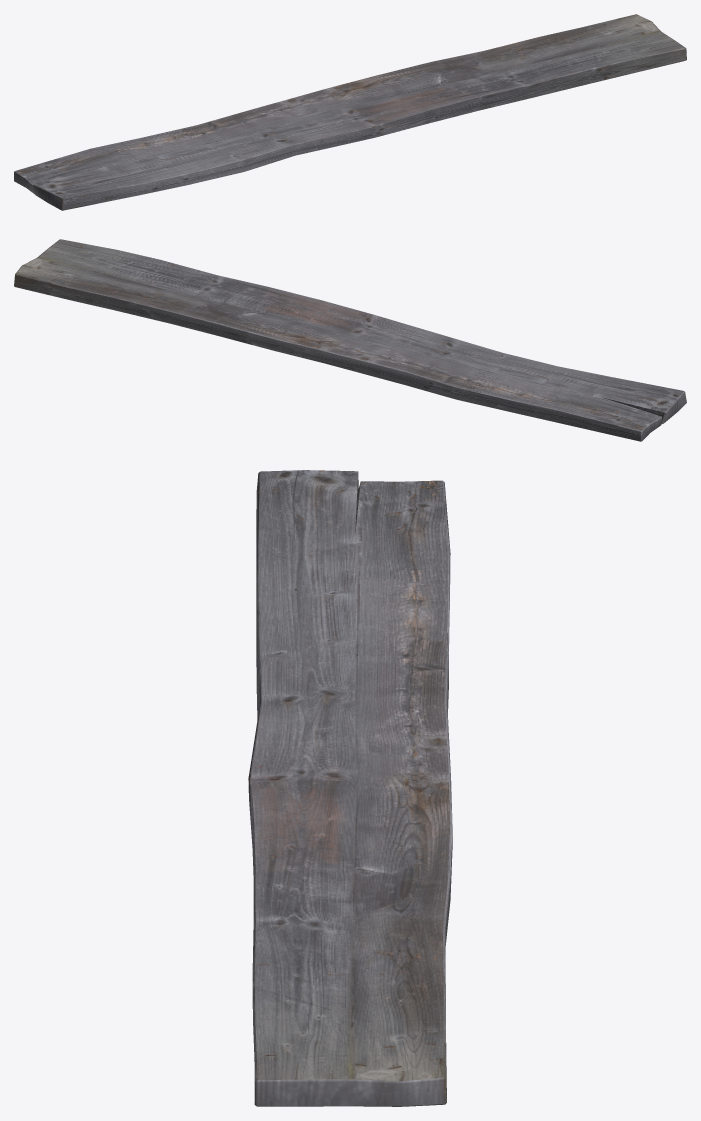
The model's file is SM_WoodPlank_02_02.fbx.
The picture shows the model from 3 angles, top to bottom: view 1: azimuth 30°, elevation 25°; view 2: azimuth 150°, elevation 25°; view 3: azimuth 270°, elevation 25°; orthographic projection. The views are drawn at different scales.
Visible parts, largest first — view 1: sm_WoodPlank_02_02_LOD0; view 2: sm_WoodPlank_02_02_LOD0; view 3: sm_WoodPlank_02_02_LOD0.
Boxes of the visible parts, box(x1,y1,x2,y2) form: sm_WoodPlank_02_02_LOD0: box(14, 14, 686, 210); sm_WoodPlank_02_02_LOD0: box(14, 239, 686, 441); sm_WoodPlank_02_02_LOD0: box(248, 470, 452, 1106).
Bounding box in the file's own units: 28.23 × 201 × 6.27.
